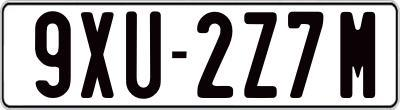2: (196, 11, 234, 103)
7: (285, 10, 325, 102)
9: (34, 11, 75, 103)
M: (338, 12, 374, 101)
U: (126, 9, 165, 102)
X: (78, 11, 115, 103)
Z: (241, 12, 280, 98)
